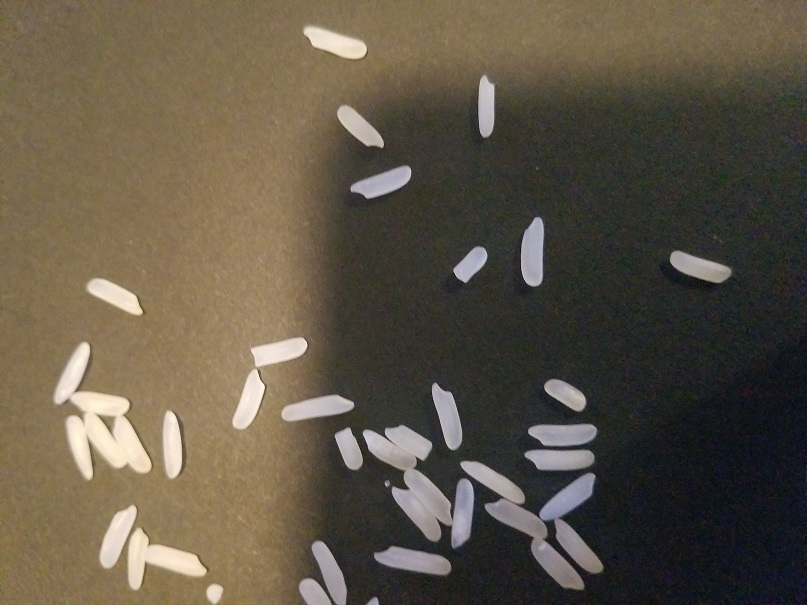egg: (551, 513, 605, 580), (400, 465, 457, 528), (387, 484, 447, 543), (80, 409, 128, 476), (538, 471, 601, 522), (458, 459, 529, 504), (530, 535, 586, 592), (49, 340, 95, 407), (108, 411, 154, 477), (98, 502, 141, 570), (481, 497, 550, 539), (347, 161, 416, 203), (300, 22, 370, 63), (373, 545, 457, 579), (361, 426, 421, 473), (83, 276, 151, 316), (309, 537, 349, 605), (144, 539, 209, 580), (667, 248, 734, 286), (431, 381, 465, 455), (335, 102, 385, 151), (274, 393, 357, 422), (518, 215, 548, 292), (227, 368, 265, 428), (245, 335, 310, 370), (385, 418, 434, 462), (64, 415, 96, 482), (159, 405, 186, 483), (66, 386, 134, 415), (450, 475, 475, 550), (542, 375, 588, 415), (526, 422, 599, 446), (474, 70, 498, 141), (125, 526, 150, 594), (331, 426, 365, 475), (449, 245, 489, 286), (522, 448, 596, 470), (295, 574, 332, 605), (203, 581, 227, 605)
